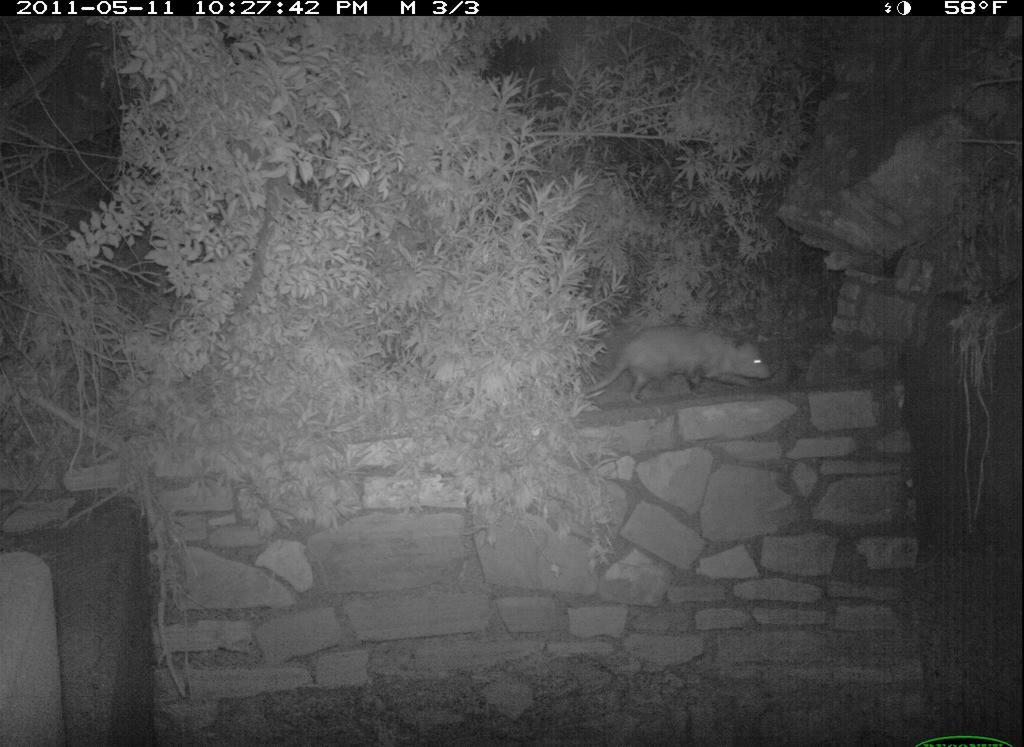opossum: (571, 323, 780, 405)
